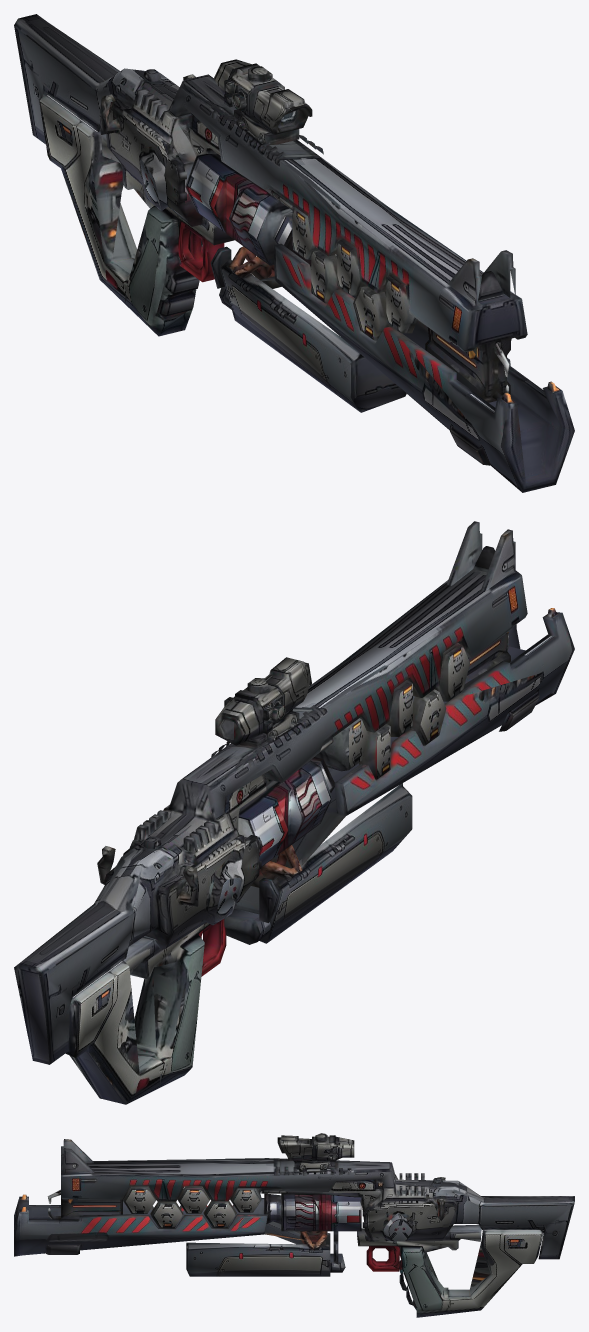
3 renders of one model, top to bottom at view 1: azimuth 30°, elevation 25°; view 2: azimuth 150°, elevation 25°; view 3: azimuth 270°, elevation 25°, orthographic. The views are drawn at different scales.
Visible parts, largest first — view 1: gun; view 2: gun; view 3: gun.
Part boxes in pixels (x1,y1,x2,y2): gun: [14, 14, 574, 492]; gun: [14, 521, 574, 1104]; gun: [14, 1133, 574, 1317].
Size of the model in its own units: 0.8874 by 2.74 by 7.8.
Materials: 1 (1 with a texture image).
